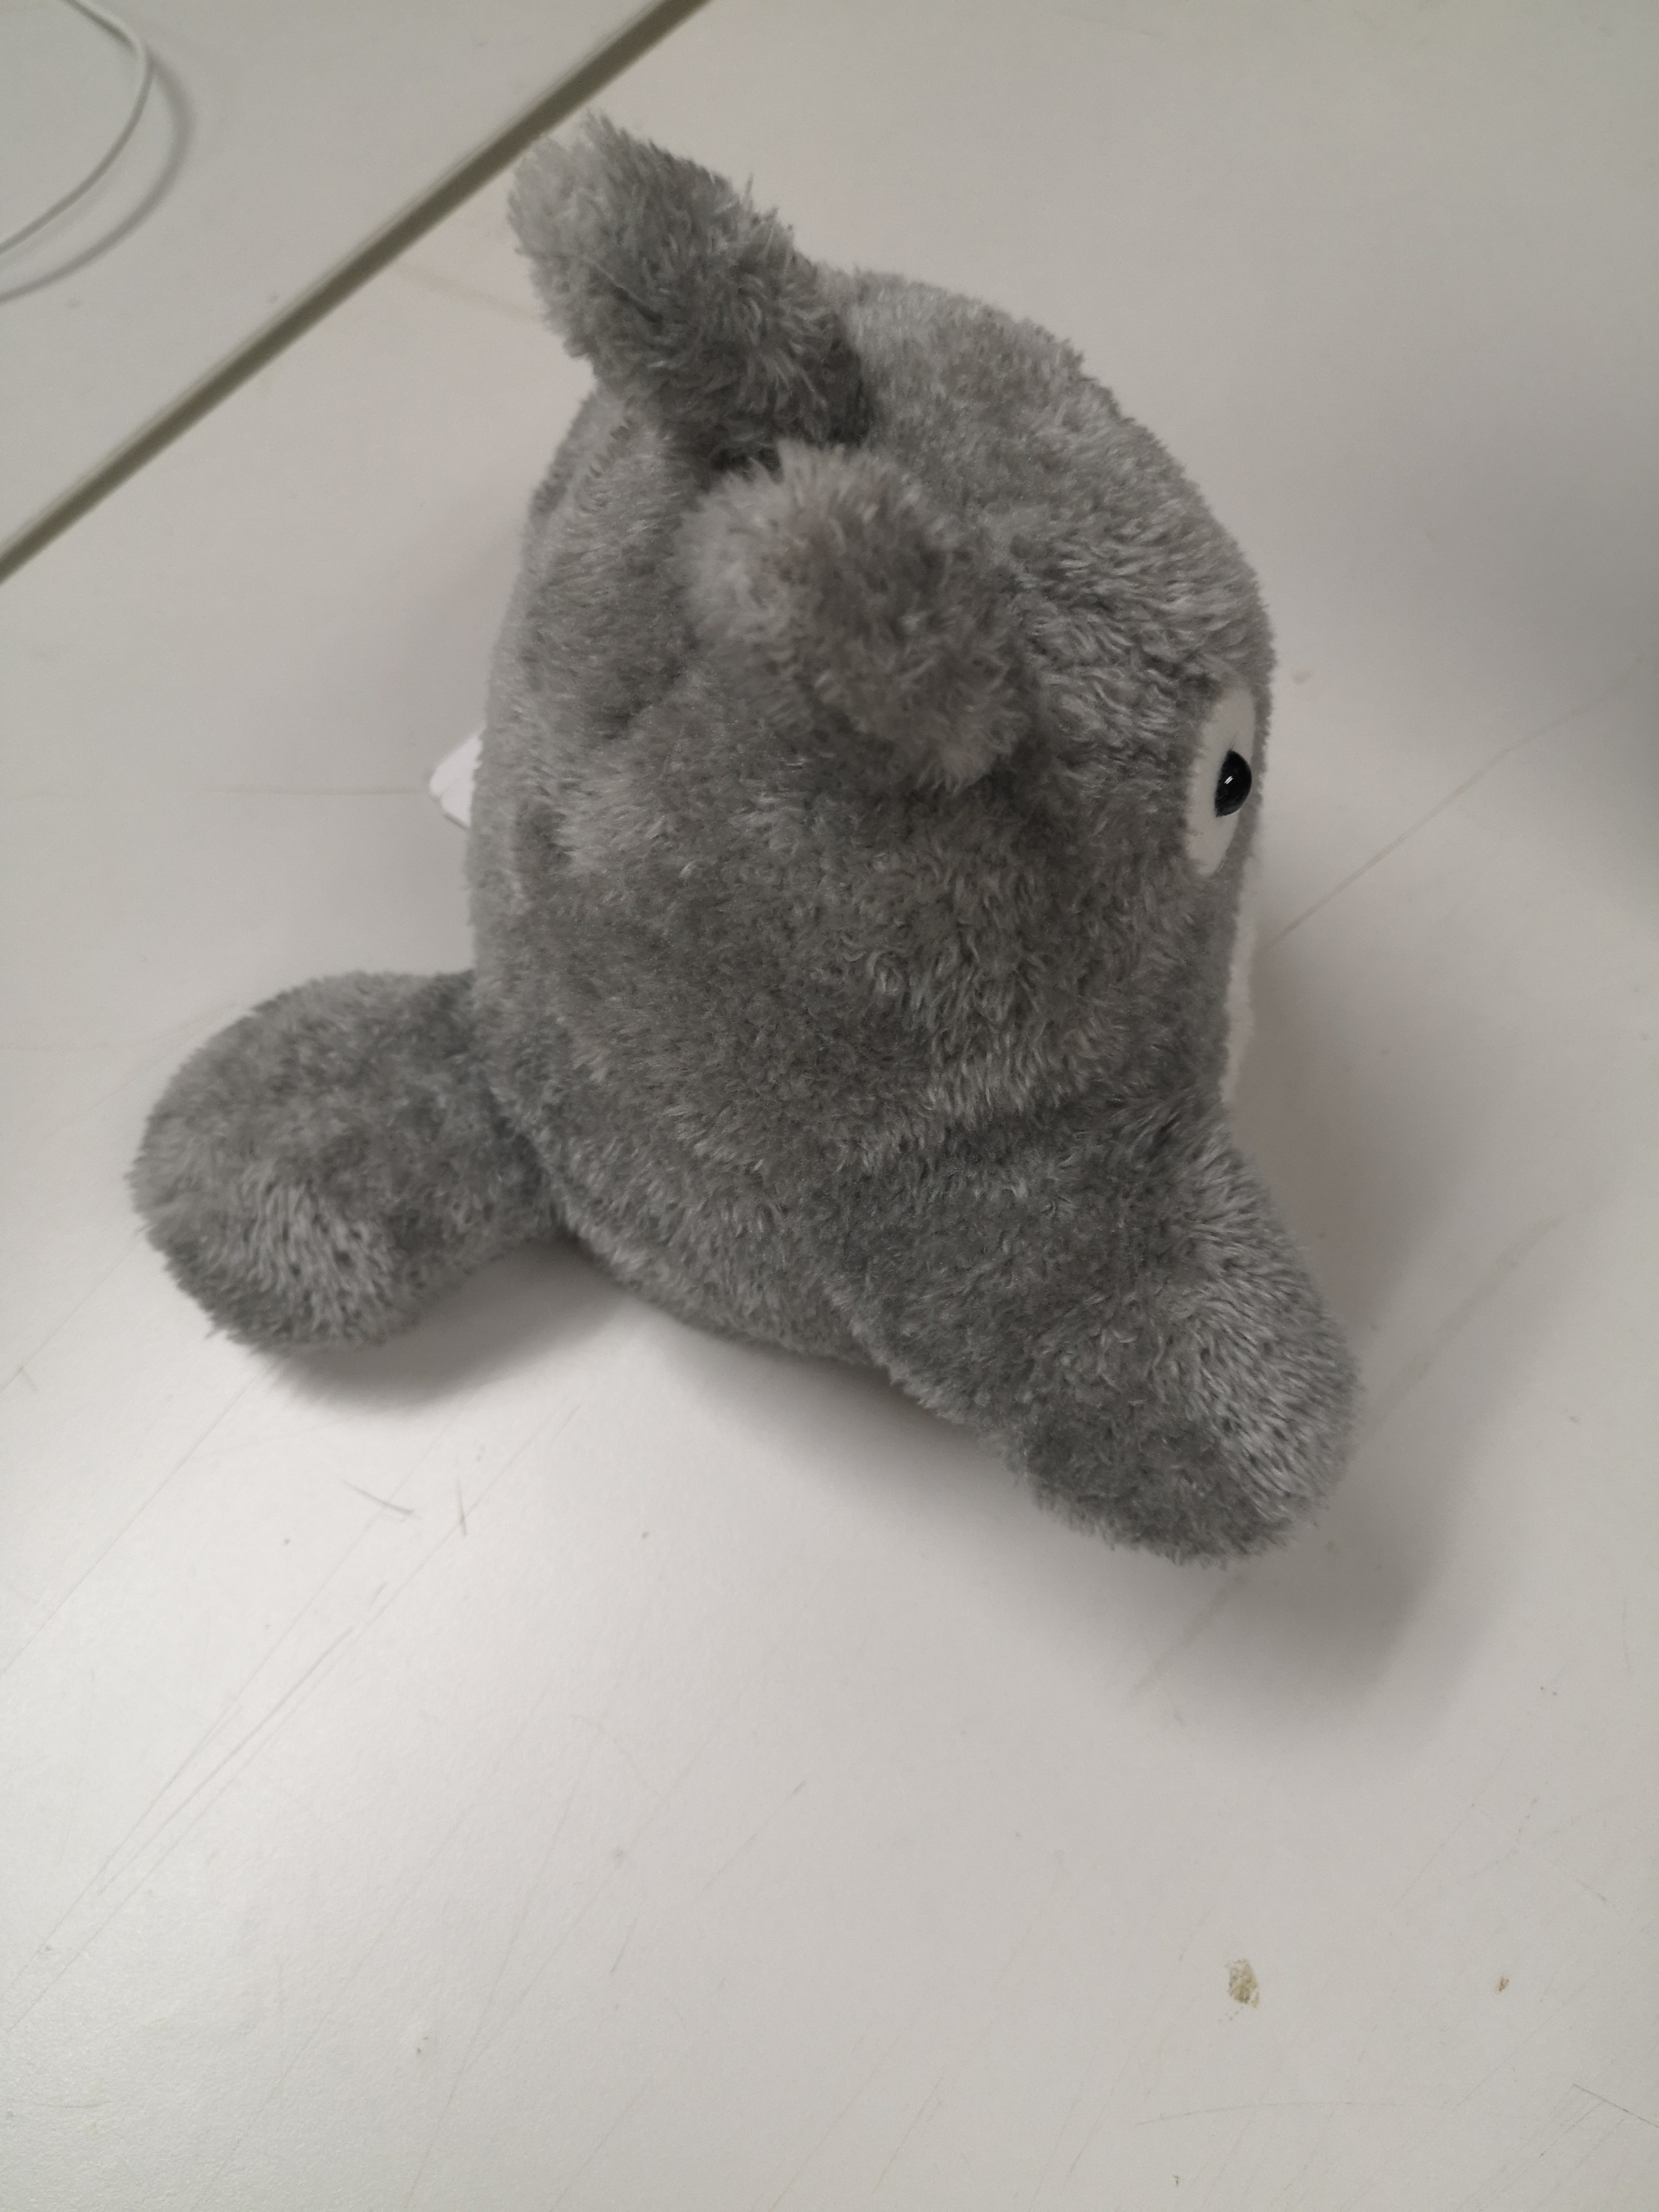totoro: (105, 91, 1377, 1566)
